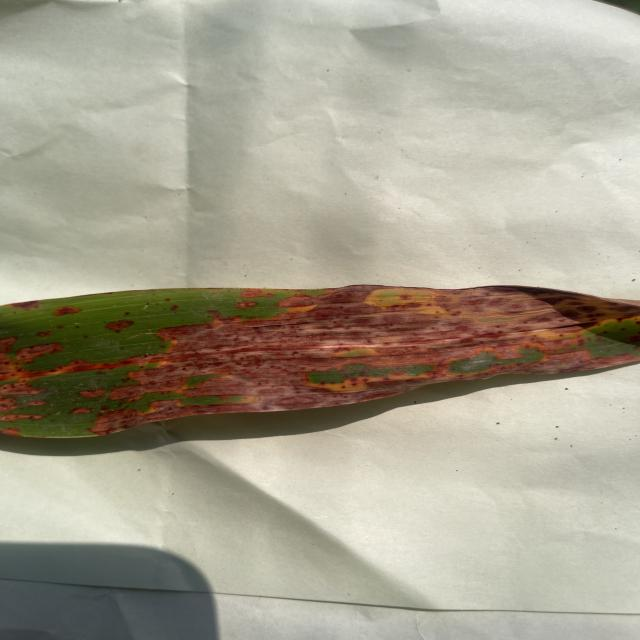millet_rust: (0, 282, 640, 442)
